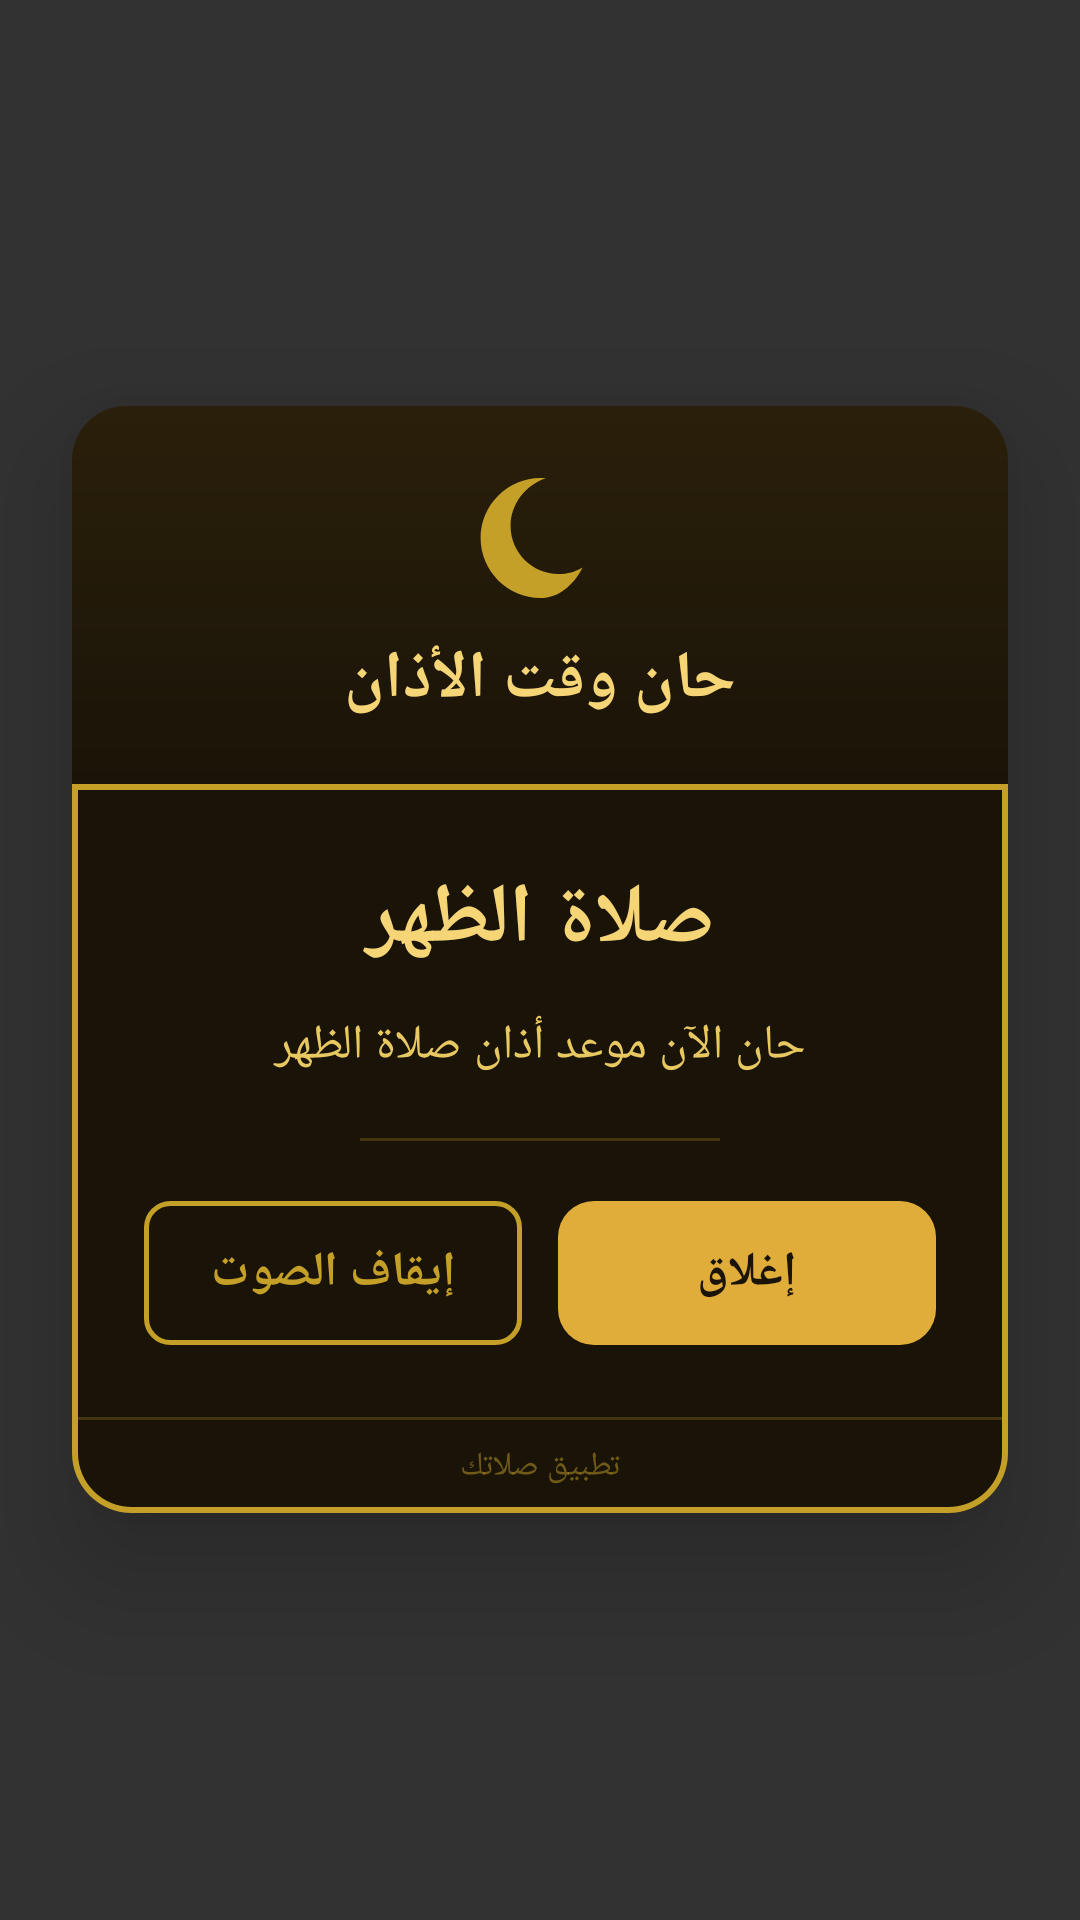

Screen size 1080px x 1920px. Icon name, then its center in pixels as (x=x, y=y):
رمز إسلامي: (x=531, y=538)
